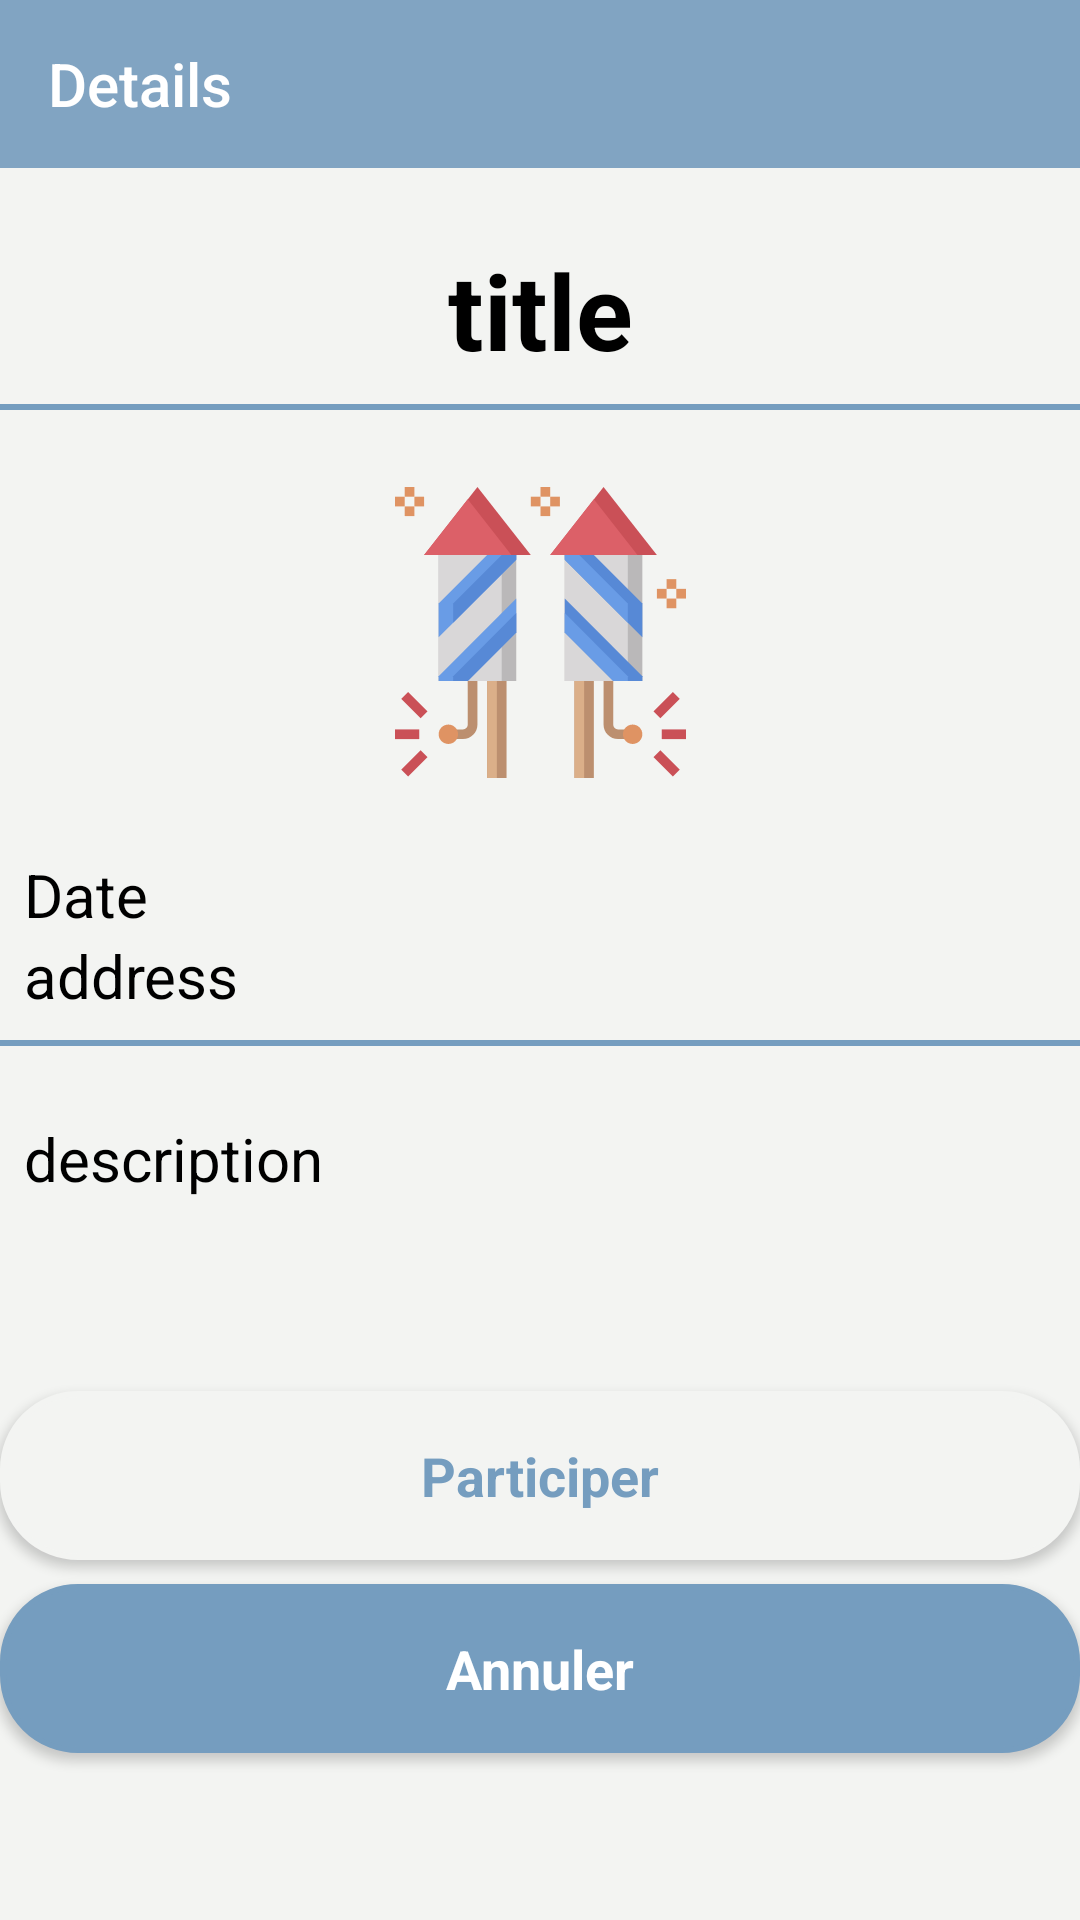

Named icons in this screenshot (1080 x 1920) and their centers, [x,y]:
events: [540,632]
